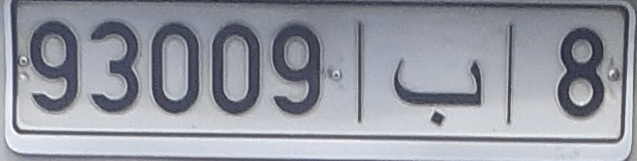0: (209, 22, 263, 118), (149, 20, 201, 117)
3: (88, 19, 141, 114)
8: (554, 22, 607, 121)
9: (270, 22, 325, 118), (27, 19, 81, 116)
b: (391, 50, 486, 127)
